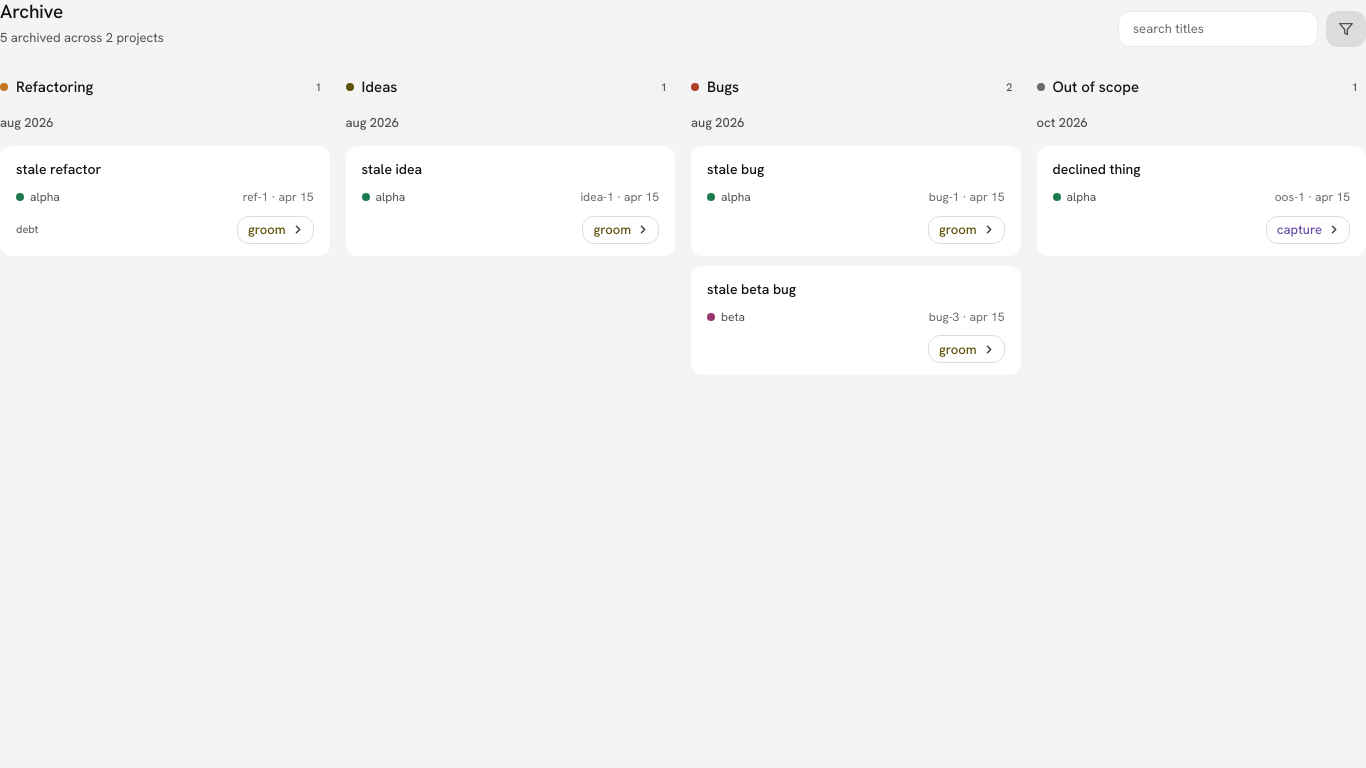
Scenario: ArchiveView › Clear all restores all projects and leaves the search alone
Type "bug" into the search field named "Search items" at (1218, 29), box left=1118, top=11, right=1318, bottom=47
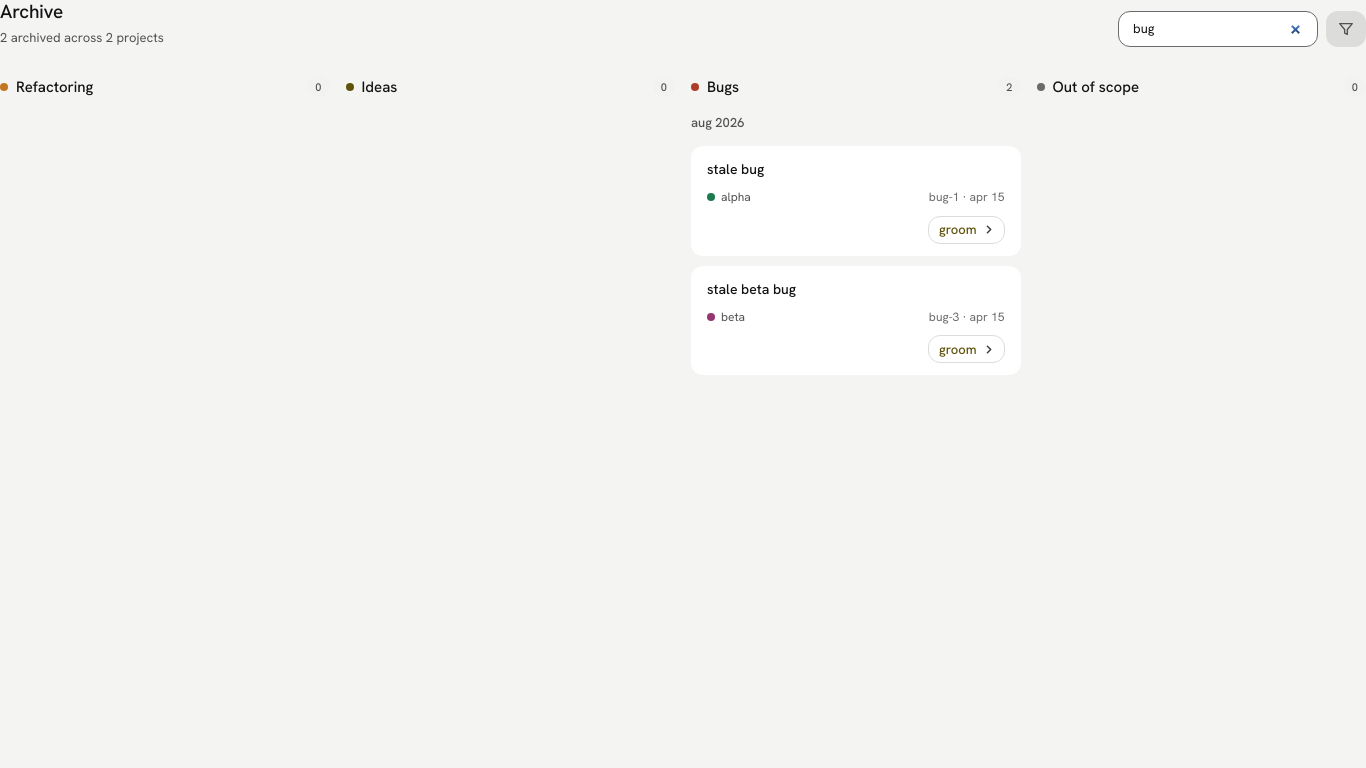
Click the button named "Filters" at (1346, 29), box left=1329, top=14, right=1363, bottom=44
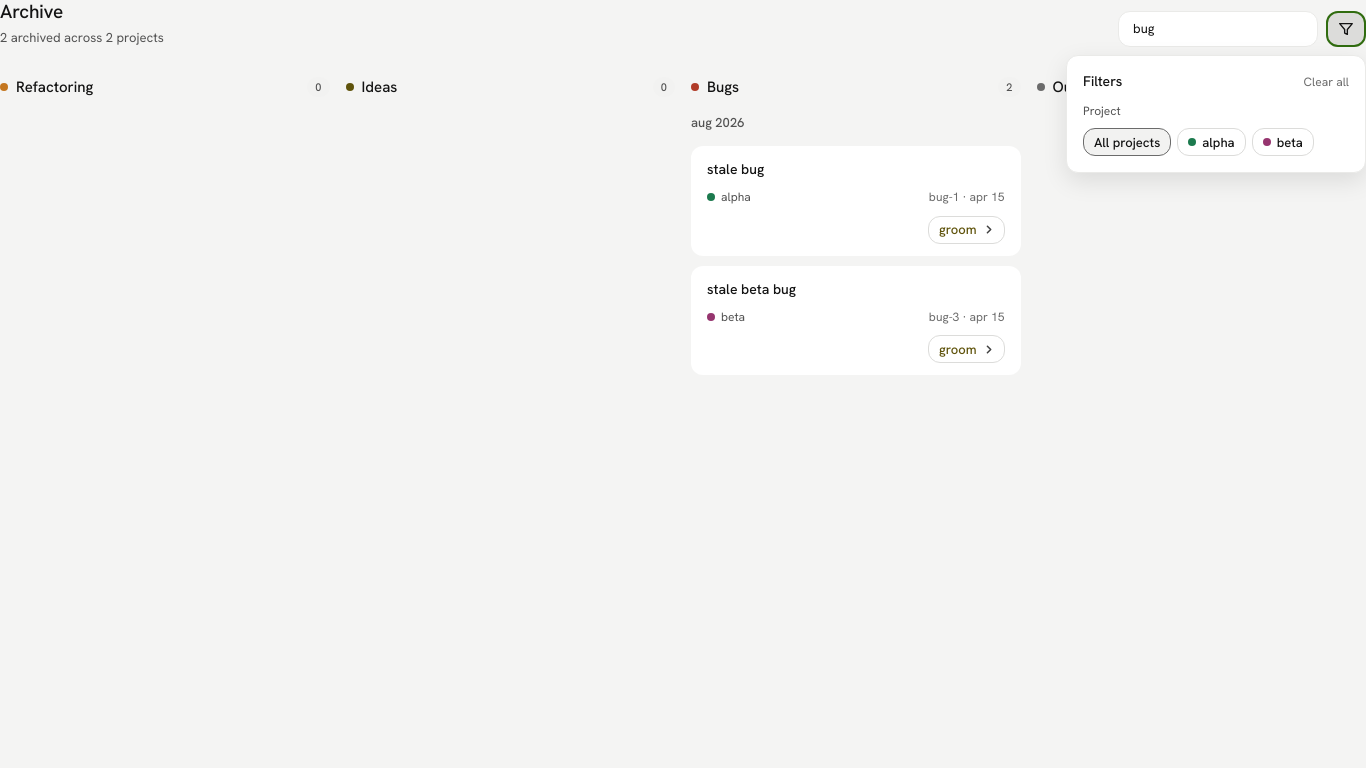
Click the button "alpha" at (1212, 142), box left=1177, top=128, right=1246, bottom=156
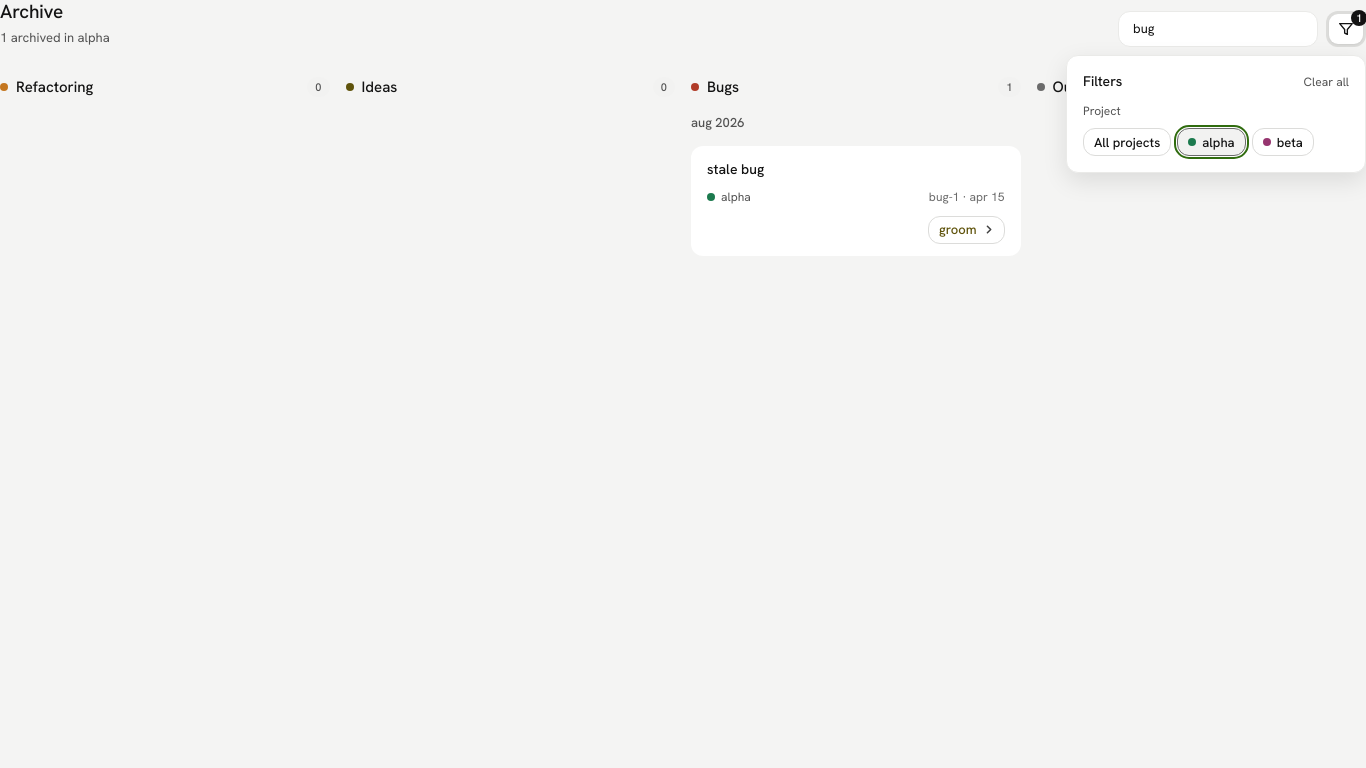
Expected: the button named "Filters, 1 set" is shown, left=1329, top=14, right=1363, bottom=44
Click the button "Clear all" at (1326, 82), box left=1304, top=74, right=1349, bottom=90
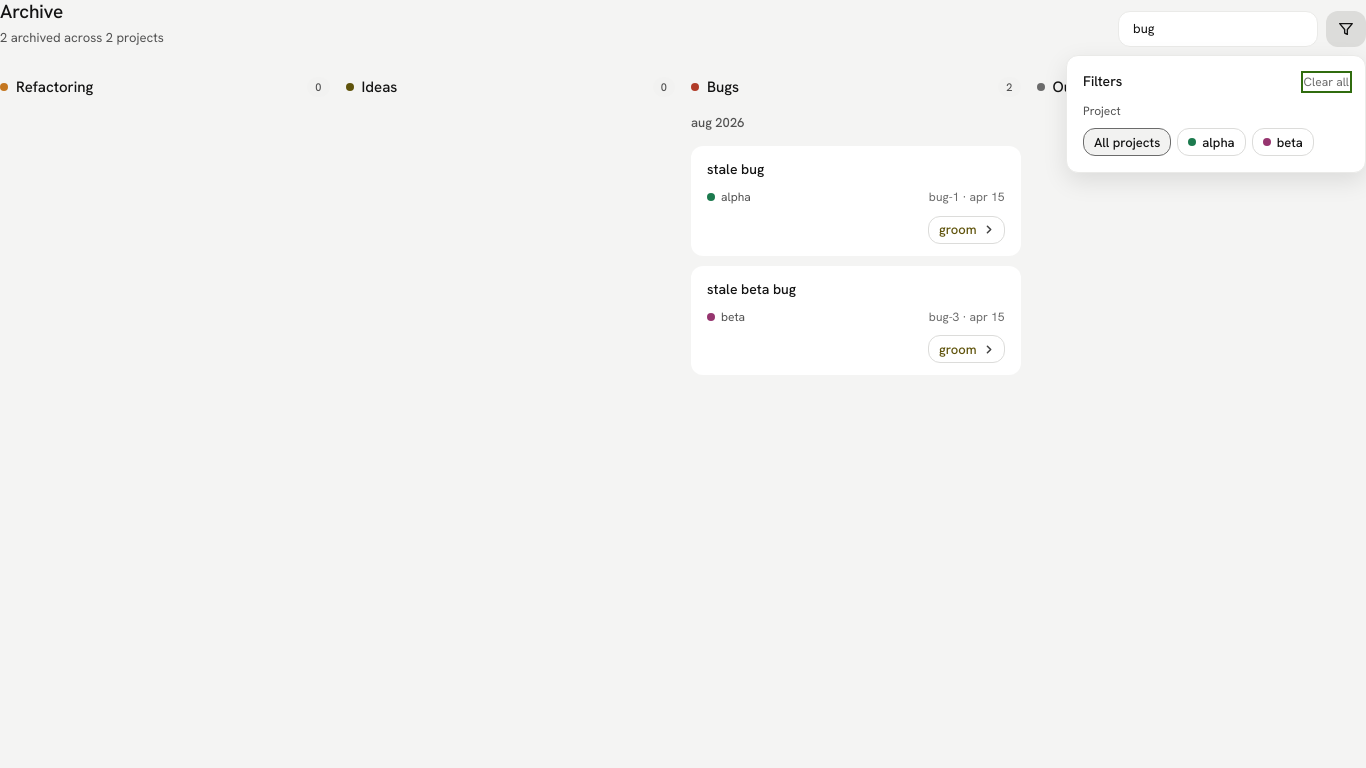
Expected: the button named "Filters" is shown, left=1329, top=14, right=1363, bottom=44
Expected: the button "All projects" is shown, left=1083, top=128, right=1171, bottom=156
Expected: the text "2 archived across 2 projects" is shown, left=0, top=29, right=164, bottom=47
